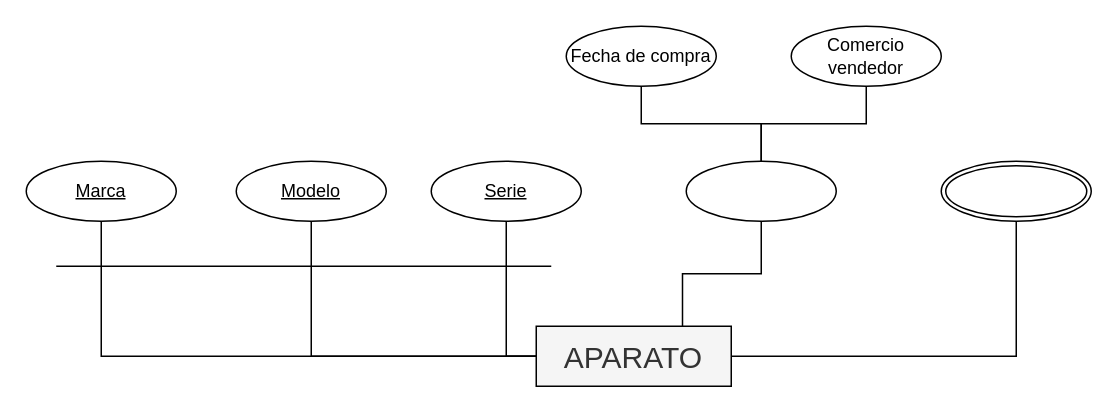
This 1118x413 diagram has some shape labels left out. Here are the shapes that lost their labels. From the top down, the box of each, then its label:
(685, 160, 836, 221): Garantía
(940, 160, 1091, 221): Tipo
